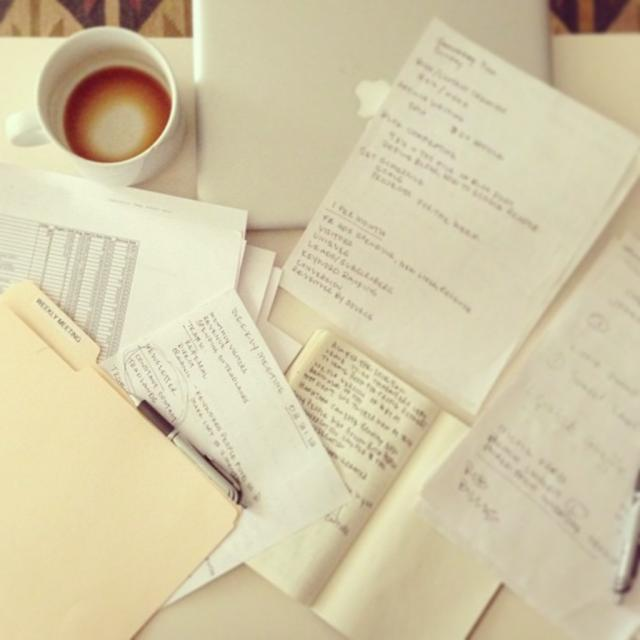Tea: (62, 67, 170, 161)
